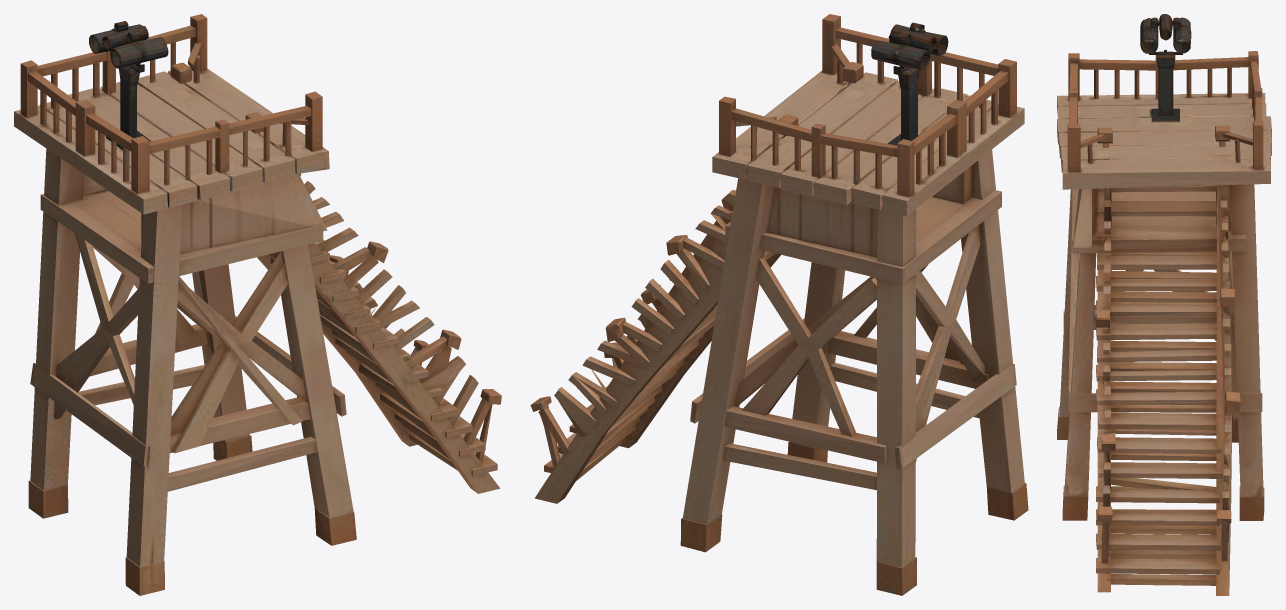
The model's file is SM_ViewingStand.fbx.
3 views of the same model, side by side, from view 1: azimuth 30°, elevation 25°; view 2: azimuth 150°, elevation 25°; view 3: azimuth 270°, elevation 25° (orthographic). The views are drawn at different scales.
Parts seen in each view (by area): view 1: SM_ViewingStand; view 2: SM_ViewingStand; view 3: SM_ViewingStand.
Boxes of the visible parts, left/top/right/bottom form: SM_ViewingStand: left=14, top=14, right=501, bottom=595; SM_ViewingStand: left=530, top=14, right=1028, bottom=595; SM_ViewingStand: left=1057, top=14, right=1271, bottom=595.
Bounding box in the file's own units: 2097 × 2646 × 1175.
